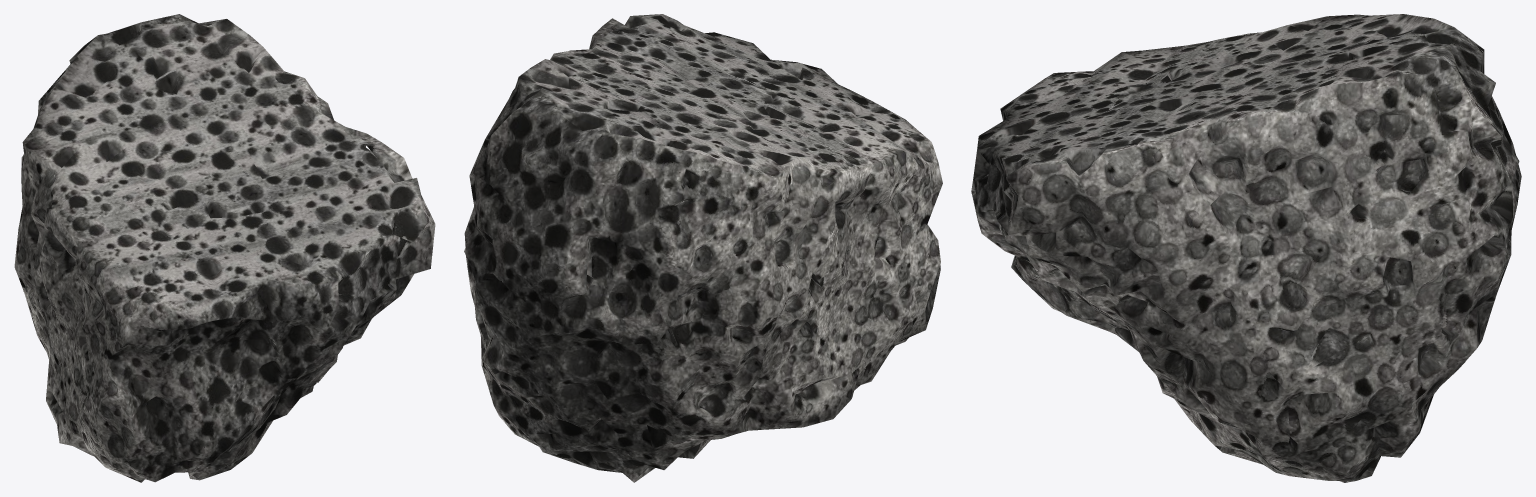
The model's file is moon-rock-a15-15016.glb.
3 views of the same model, side by side, from view 1: azimuth 30°, elevation 25°; view 2: azimuth 150°, elevation 25°; view 3: azimuth 270°, elevation 25° (orthographic). The views are drawn at different scales.
Visible parts, largest first — view 1: moon-rock-a15-15016_LOD0; view 2: moon-rock-a15-15016_LOD0; view 3: moon-rock-a15-15016_LOD0.
Part boxes in pixels (x1,y1,x2,y2): moon-rock-a15-15016_LOD0: [14, 14, 435, 482]; moon-rock-a15-15016_LOD0: [464, 14, 942, 482]; moon-rock-a15-15016_LOD0: [971, 14, 1521, 482].
Size of what is drawn, in the model's own units: 1.47 by 1.72 by 1.98.
Materials: 1 (1 with a texture image).
